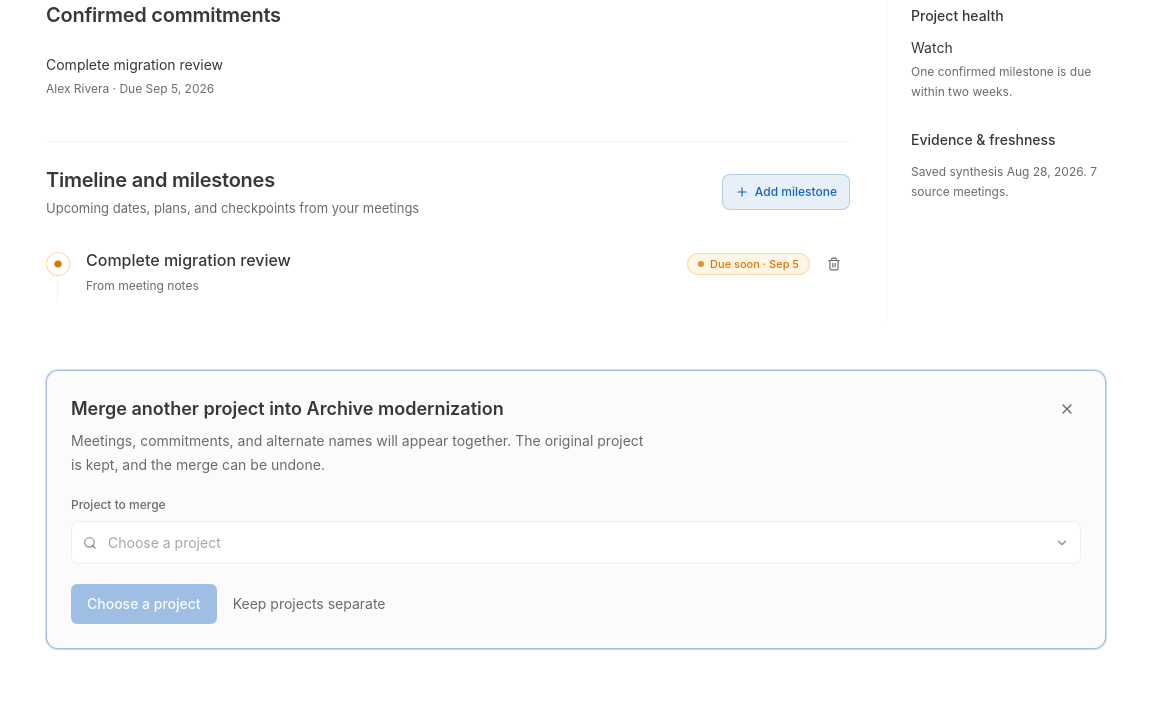
Test: previews, performs and undoes a reversible merge
Earlier steps of the test are not shown.
Later steps or results of the test are not shown.
(page scrolled)
Click the dropdown with id "merge-project-source" at [576, 542], box left=71, top=521, right=1081, bottom=564
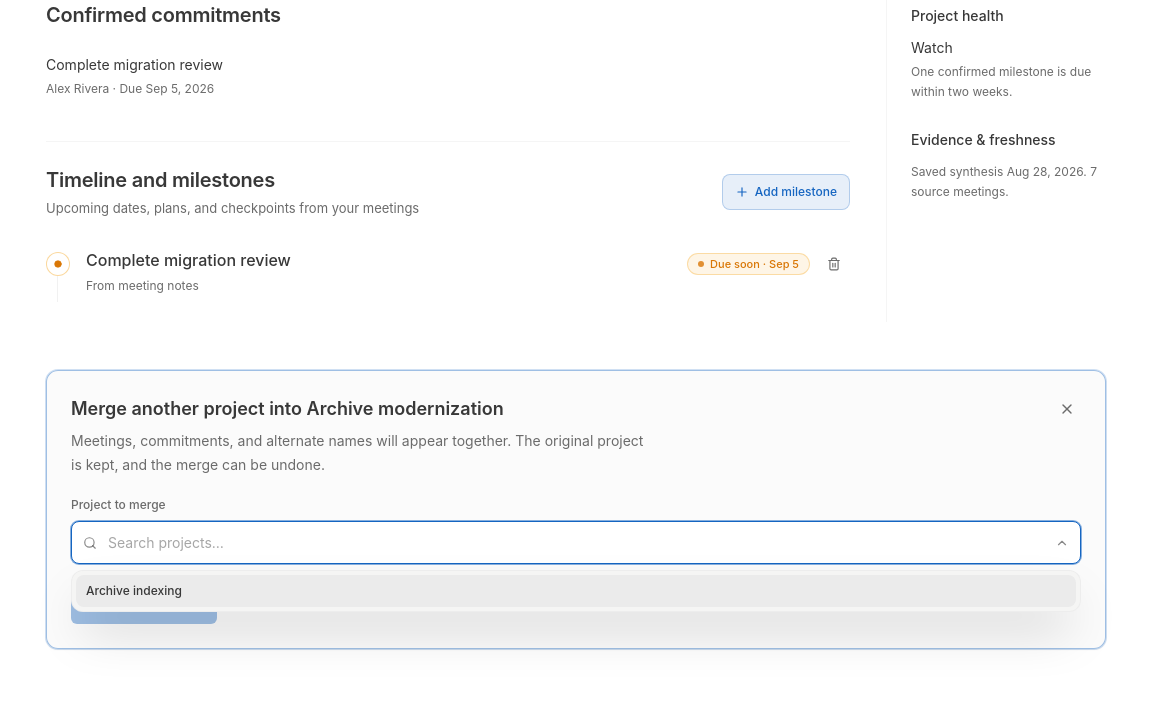
Click the option "Archive indexing" at [134, 591], box left=76, top=575, right=1076, bottom=607
(page scrolled)
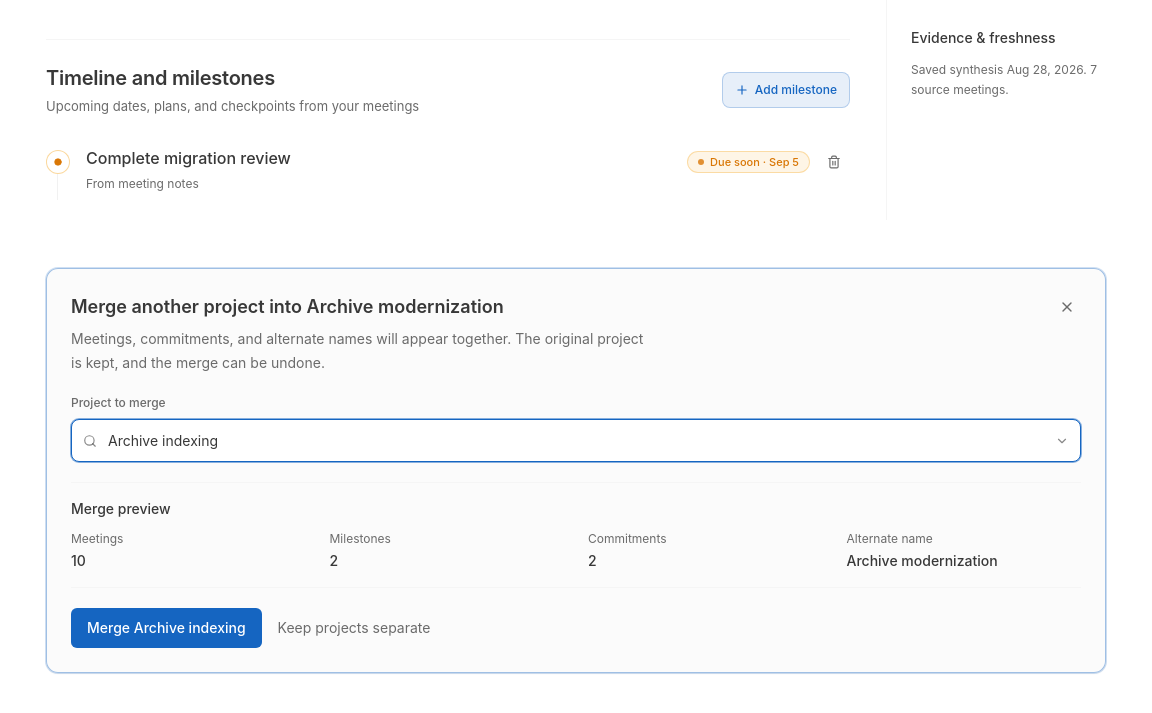
Click the button "Merge Archive indexing" at [166, 628], box left=71, top=608, right=262, bottom=648
(page scrolled)
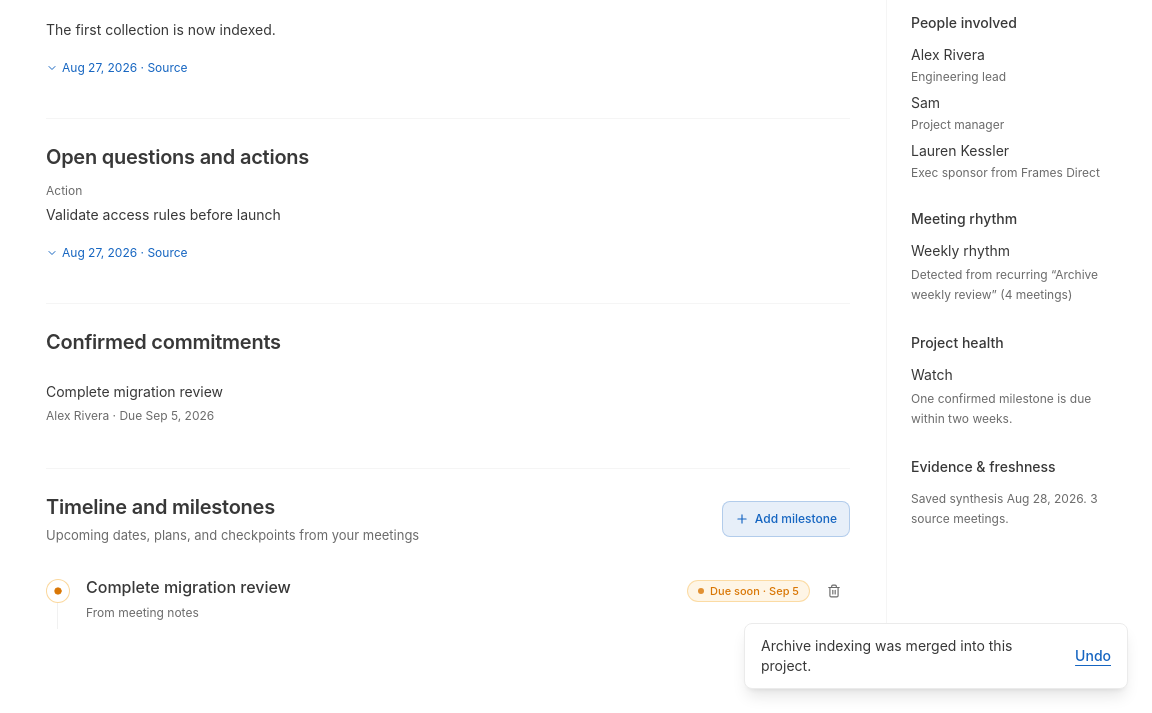
Expected: the text "was merged into this project" is shown, left=761, top=637, right=1012, bottom=674
